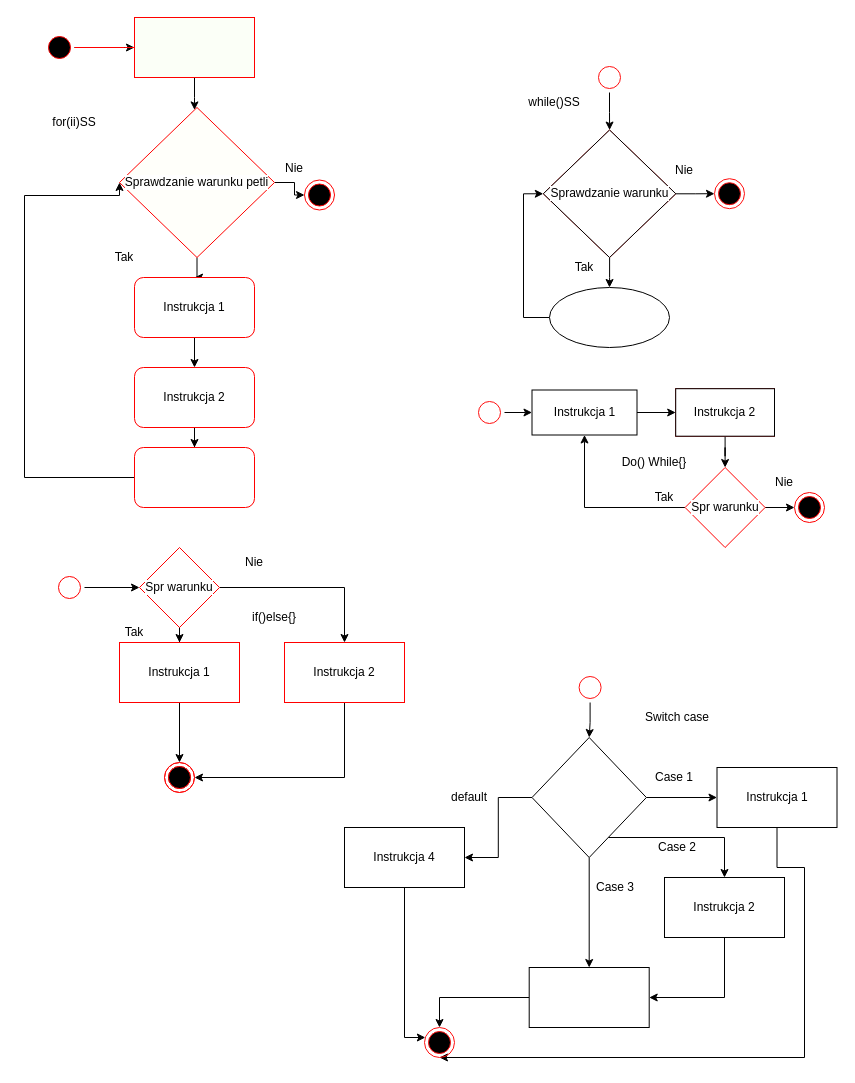
The diagram is 855 pixels wide and 1083 high, and some of its shapes have lost their labels. Here are the shapes that lost their labels. From the top down, the centre of each, then its label:
point 194,47: Inicjowanie iteratora
point 609,317: Instrukcja
point 194,477: Operacja na iteratorze
point 588,797: Wybor przypadku
point 588,997: Instrukcja 3
